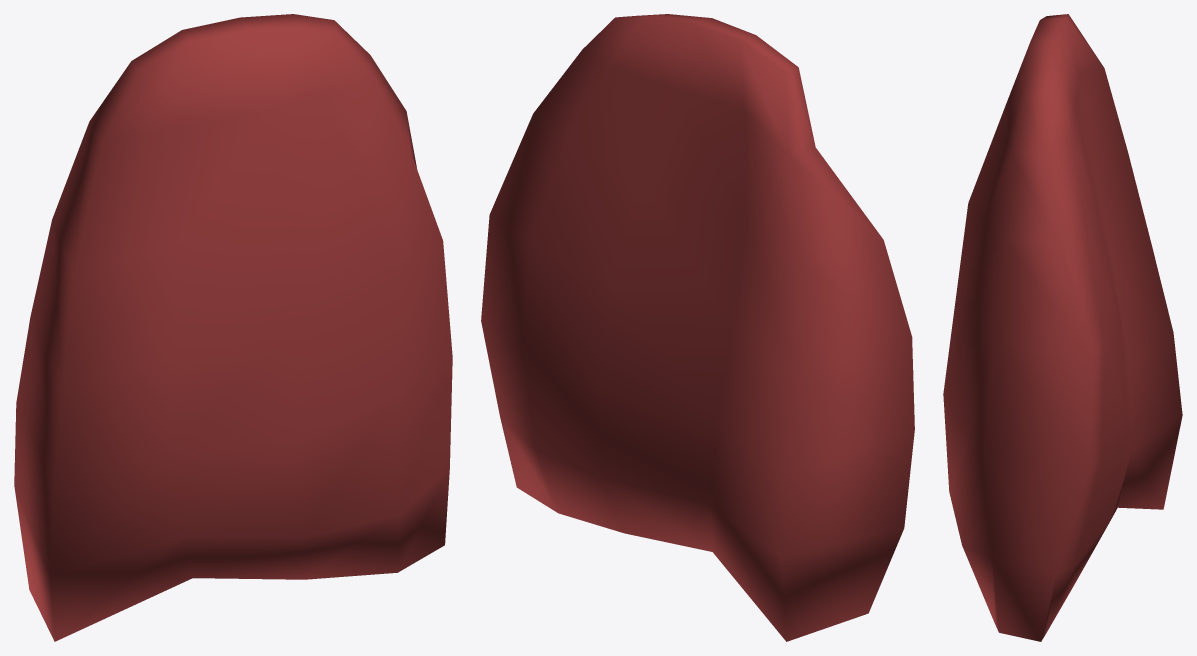
The model's file is subtendinous-calcaneal-bursa-r.glb.
The picture shows the model from 3 angles, left to right: view 1: azimuth 30°, elevation 25°; view 2: azimuth 150°, elevation 25°; view 3: azimuth 270°, elevation 25°; orthographic projection. The views are drawn at different scales.
Parts seen in each view (by area): view 1: Subtendinous calcaneal bursa.r; view 2: Subtendinous calcaneal bursa.r; view 3: Subtendinous calcaneal bursa.r.
Boxes of the visible parts, box(x1,y1,x2,y2) form: Subtendinous calcaneal bursa.r: box(14, 14, 452, 641); Subtendinous calcaneal bursa.r: box(481, 14, 914, 641); Subtendinous calcaneal bursa.r: box(943, 14, 1182, 641).
Bounding box in the file's own units: 0.0214 × 0.0283 × 0.0113.
